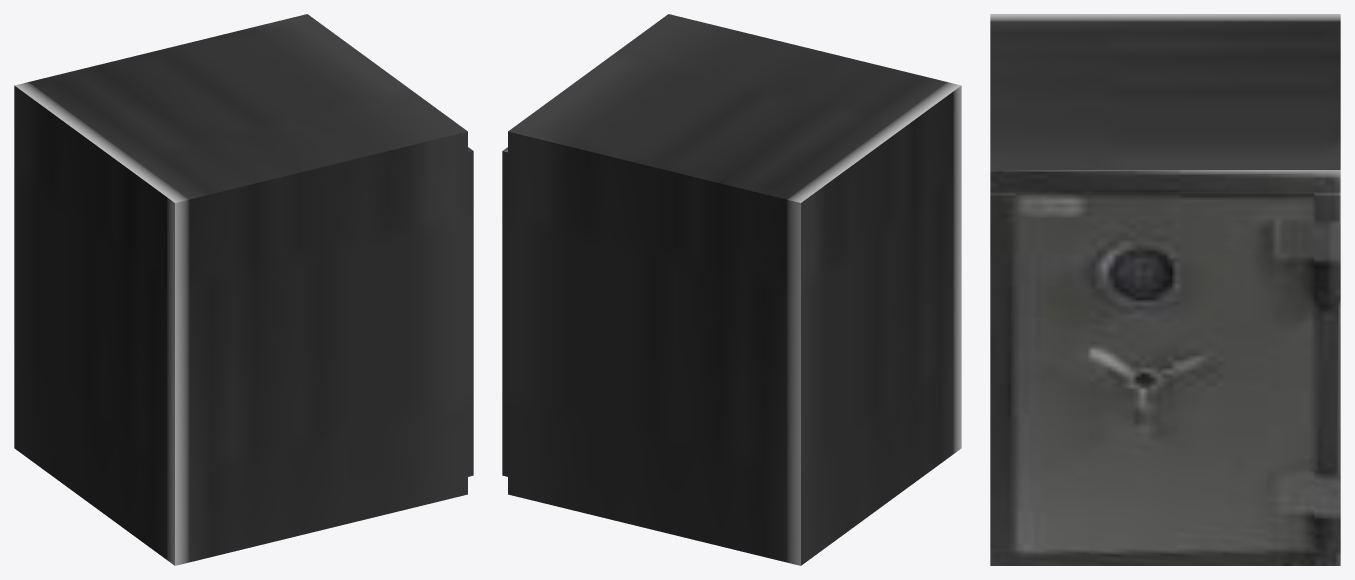
Rendered from Safe.fbx.
The picture shows the model from 3 angles, left to right: view 1: azimuth 30°, elevation 25°; view 2: azimuth 150°, elevation 25°; view 3: azimuth 270°, elevation 25°; orthographic projection. The views are drawn at different scales.
Parts seen in each view (by area): view 1: SafeBody; view 2: SafeBody; view 3: SafeDoor, SafeBody.
Boxes of the visible parts, bbox=[...] form: SafeBody: bbox=[14, 14, 473, 565]; SafeBody: bbox=[502, 14, 961, 565]; SafeDoor: bbox=[1015, 192, 1314, 546]; SafeBody: bbox=[990, 14, 1340, 565].
Bounding box in the file's own units: 224 × 260 × 208.
1 material, 1 textured.
